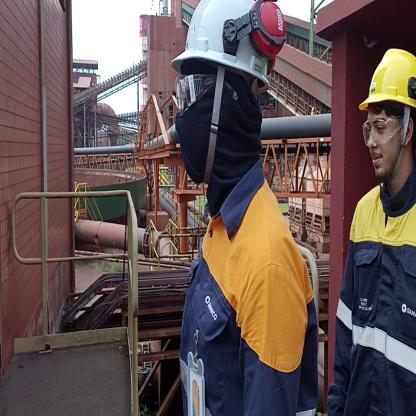Balaclava: (174, 65, 266, 188)
C_eletrica: (343, 195, 416, 416)
Capacete: (176, 0, 282, 82), (361, 44, 416, 116)
Operacional: (179, 200, 318, 416)
colete: (359, 111, 409, 143)
